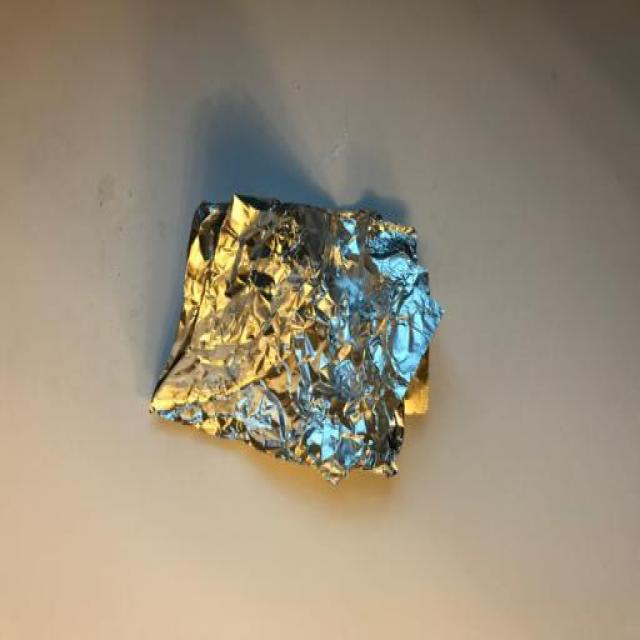plastic_bag: (146, 176, 482, 518)
